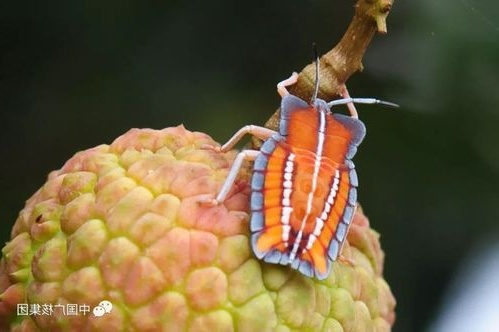Stink_Bug: (242, 104, 376, 259)
